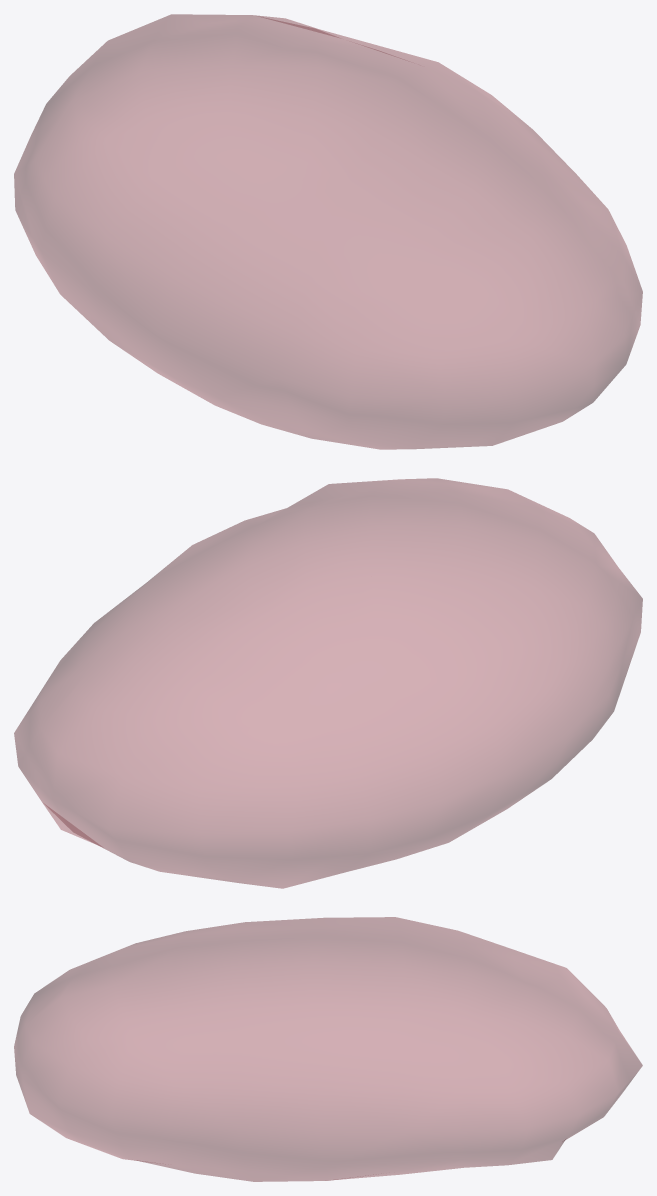
File: microscopic-cells-red-blood-cell_v2.glb
3 views of the same model, one above another, from view 1: azimuth 30°, elevation 25°; view 2: azimuth 150°, elevation 25°; view 3: azimuth 270°, elevation 25° (orthographic). The views are drawn at different scales.
Visible parts, largest first — view 1: Red Blood Cell_v2; view 2: Red Blood Cell_v2; view 3: Red Blood Cell_v2.
Part boxes in pixels (box(x1,y1,x2,y2)): Red Blood Cell_v2: box(14, 14, 642, 449); Red Blood Cell_v2: box(14, 478, 642, 888); Red Blood Cell_v2: box(14, 917, 642, 1181).
Size of the model in its own units: 0.5074 by 0.2815 by 0.8.
